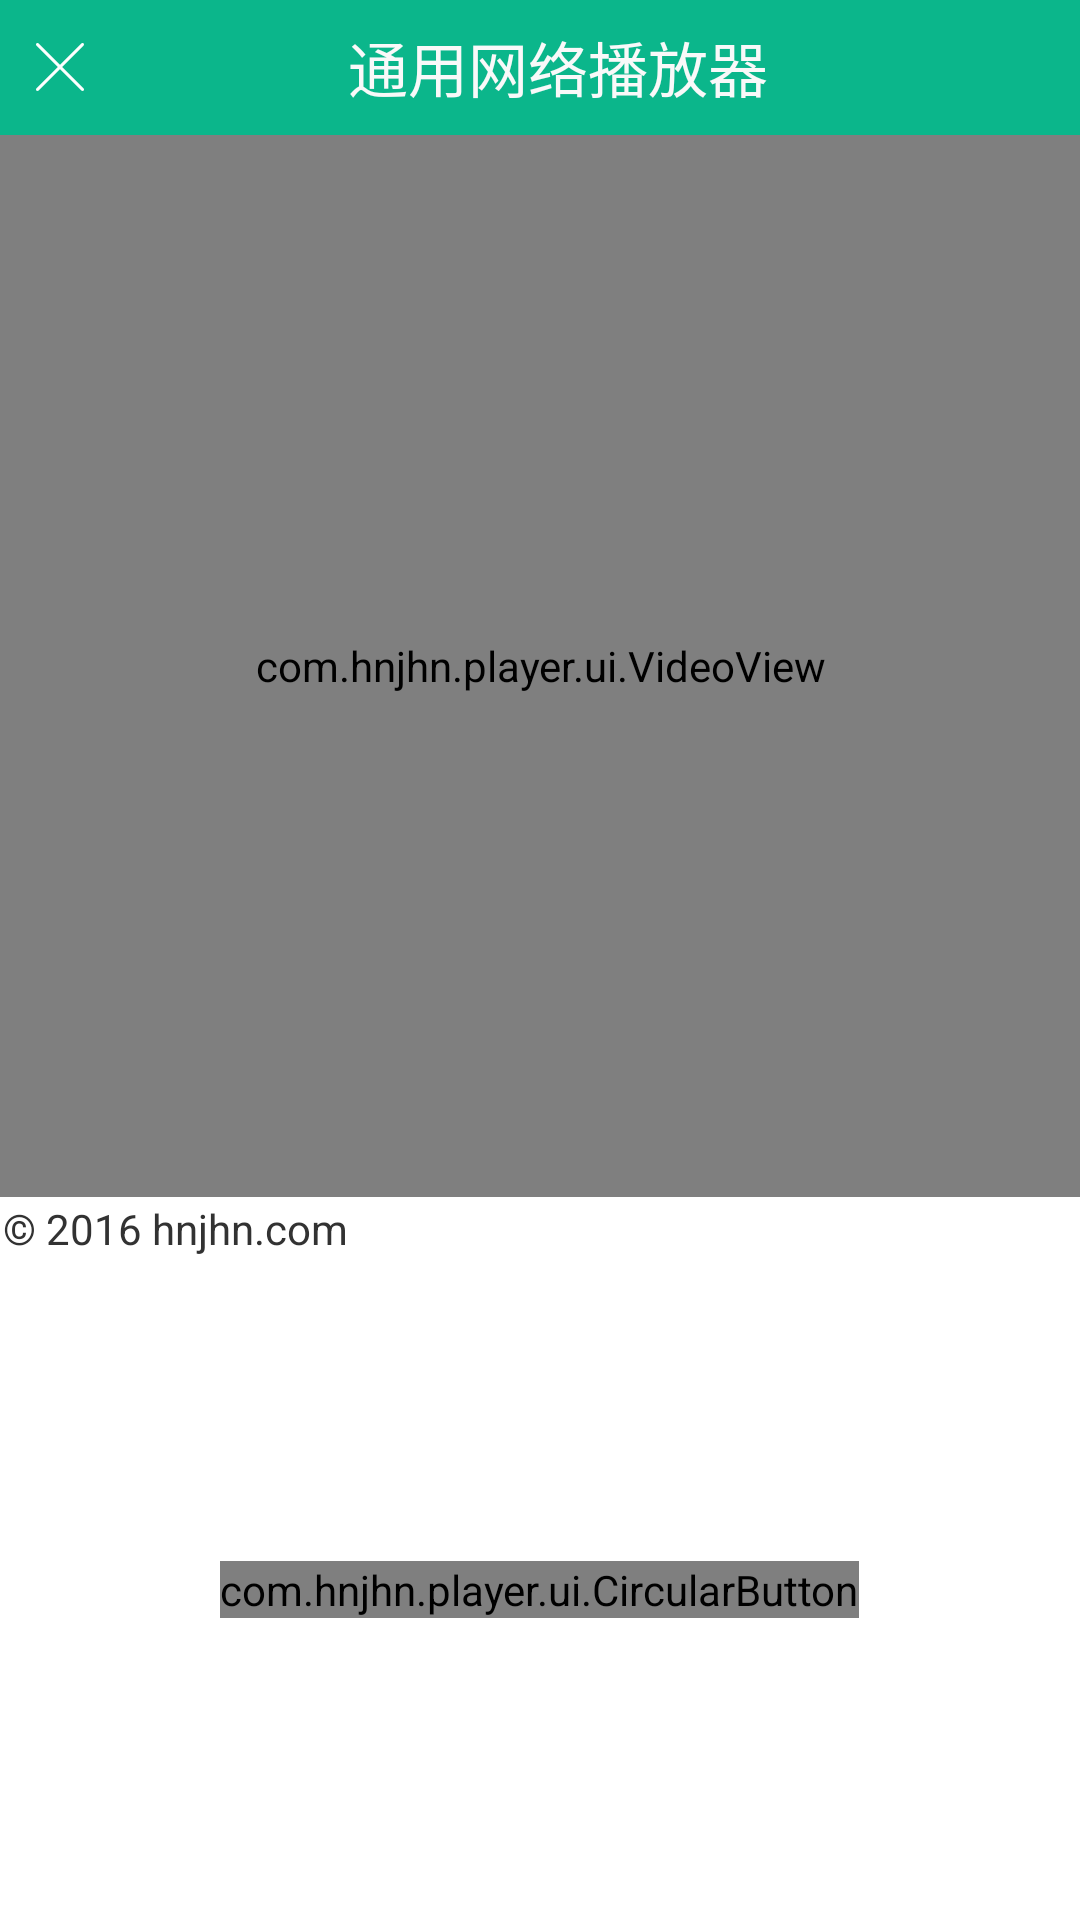

Named icons in this screenshot (1080x1920) and their centers, point (x, y):
close: point (60, 67)
